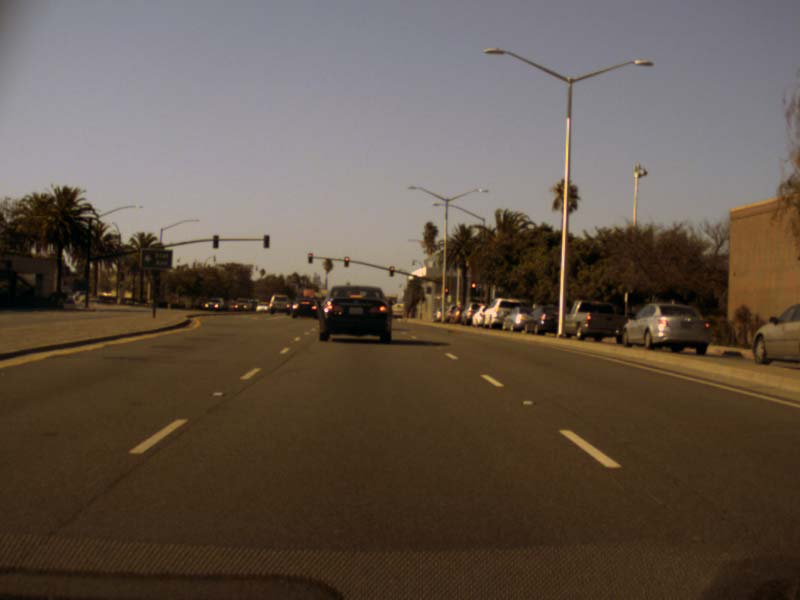Red: (307, 252, 313, 263), (470, 281, 475, 293), (389, 266, 394, 276), (344, 257, 349, 267), (444, 287, 448, 293)
